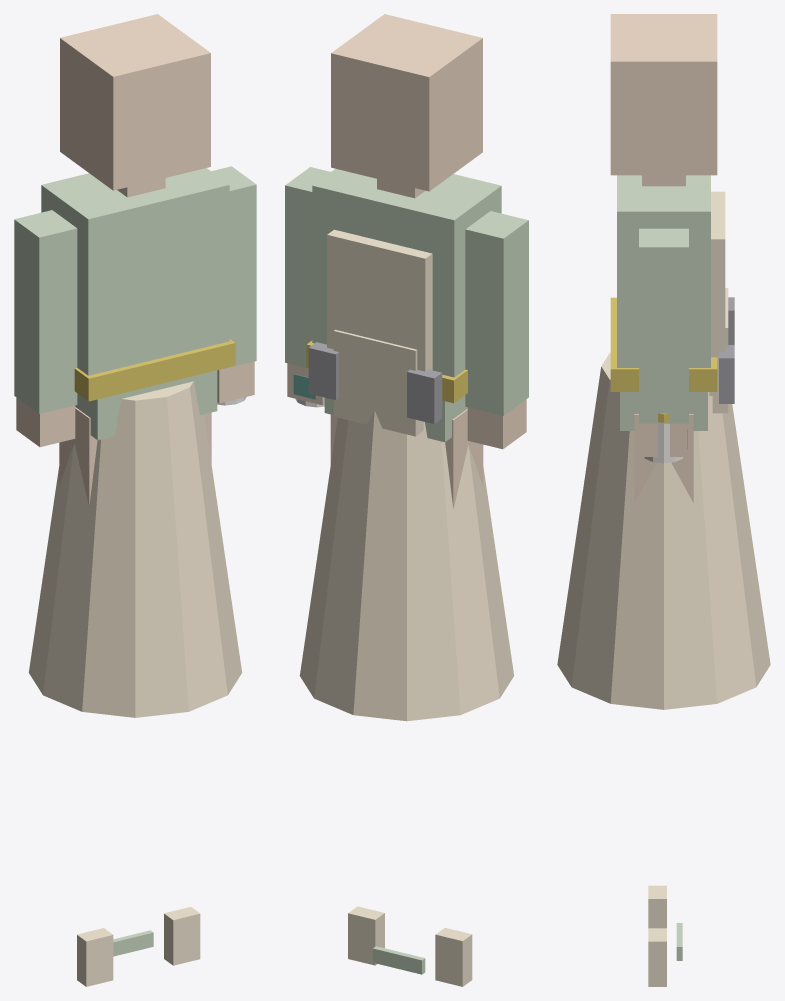
File: persephone.glb
3 views of the same model, side by side, from view 1: azimuth 30°, elevation 25°; view 2: azimuth 150°, elevation 25°; view 3: azimuth 270°, elevation 25° (orthographic).
Visible parts, largest first — view 1: outfit_robe_0, torso, head, arm_L_upper, arm_R_upper, outfit_belt_0, hips, arm_L_hand, outfit_sandals_1, outfit_sandals_0, leg_L_shin, arm_R_hand (+1 smaller); view 2: outfit_robe_0, head, torso, arm_L_upper, outfit_apron_0, outfit_robe_1, arm_R_upper, arm_L_hand, outfit_sandals_0, outfit_belt_2, outfit_sandals_1, leg_L_shin (+5 smaller); view 3: outfit_robe_0, head, torso, arm_R_upper, outfit_apron_0, outfit_belt_0, leg_R_shin, hips, arm_R_hand, outfit_sandals_1, outfit_belt_1, outfit_sandals_0 (+2 smaller).
Part boxes in pixels (x1,y1,x2,y2): outfit_robe_0: (28,381,242,717); torso: (41,168,229,375); head: (60,14,210,190); arm_L_upper: (14,210,77,413); arm_R_upper: (211,166,256,369); outfit_belt_0: (74,339,235,401); hips: (75,370,217,440); arm_L_hand: (16,397,75,447); outfit_sandals_1: (164,907,200,965); outfit_sandals_0: (77,928,113,986); leg_L_shin: (59,407,97,506); arm_R_hand: (217,361,254,403); outfit_robe_0: (299,410,514,721); head: (331,14,482,191); torso: (312,168,501,377); arm_L_upper: (465,211,528,415); outfit_apron_0: (327,229,432,371); outfit_robe_1: (333,329,423,436); arm_R_upper: (285,167,330,368); arm_L_hand: (467,399,526,449); outfit_sandals_0: (435,927,472,986); outfit_belt_2: (407,369,442,423); outfit_sandals_1: (348,906,384,965); leg_L_shin: (445,409,483,509); outfit_robe_0: (557,352,770,709); head: (610,14,717,175); torso: (617,175,710,367); arm_R_upper: (639,228,688,423); outfit_apron_0: (709,191,725,395); outfit_belt_0: (610,297,717,391); leg_R_shin: (634,414,693,502); hips: (620,392,707,430); arm_R_hand: (640,423,687,456); outfit_sandals_1: (648,928,666,986); outfit_belt_1: (719,345,734,403); outfit_sandals_0: (648,885,666,928).
Bounding box in the file's own units: 0.805 × 3.24 × 0.68.
